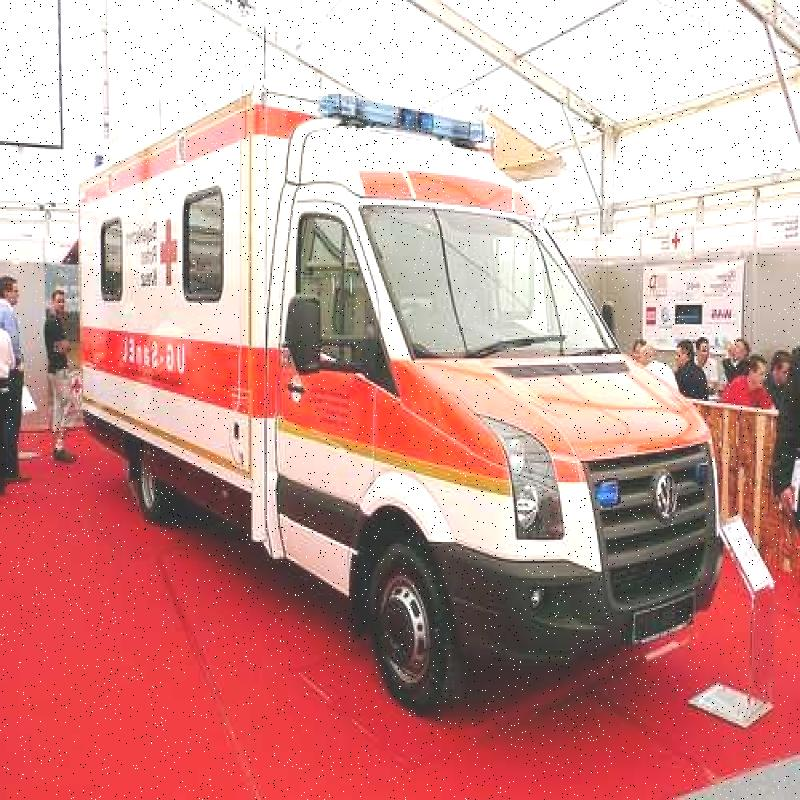AmbulanceSiren: (284, 98, 512, 153)
